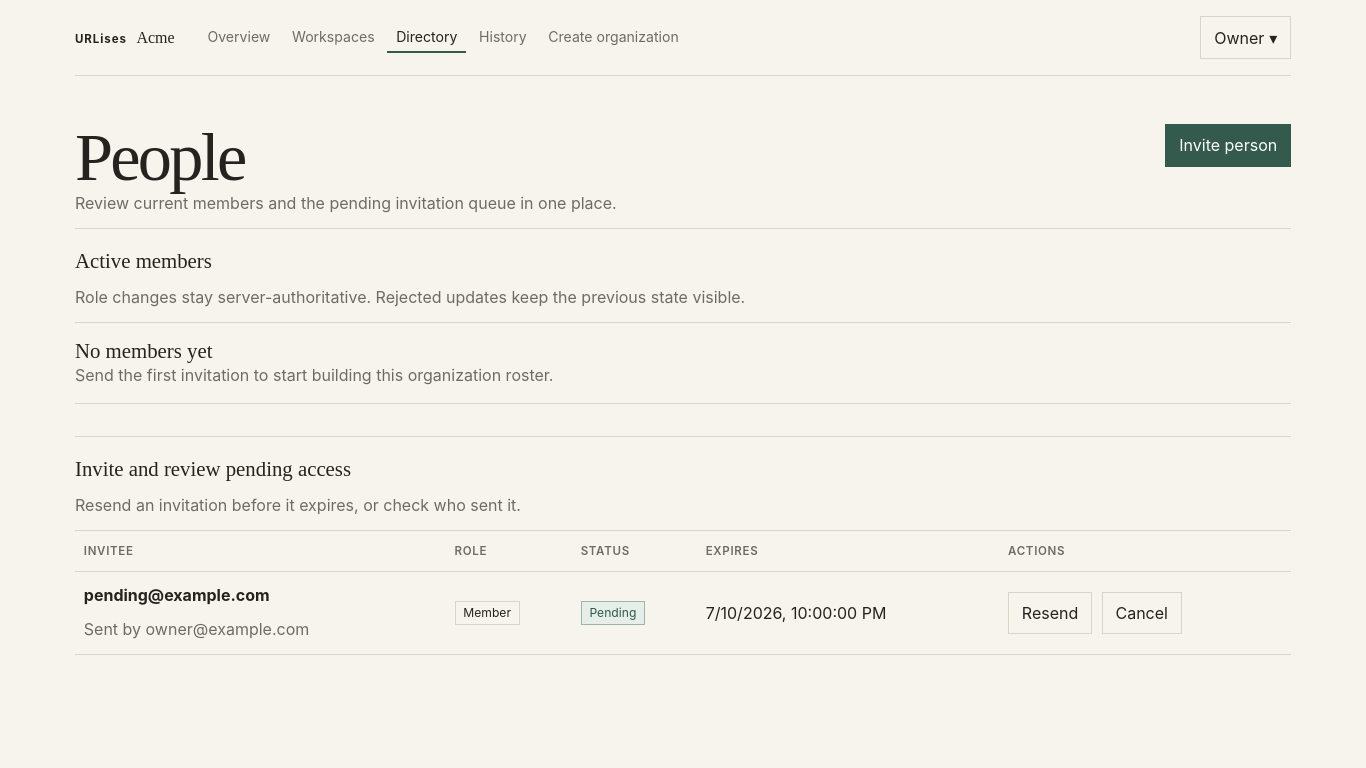
Test: members page › resends a pending invitation and shows a confirmation notice
Expected: the text "pending@example.com" is shown, [84,584,270,604]
Click the button with aria-label "resend invitation to pending@example.com": (1050, 613) [1008,592,1092,634]
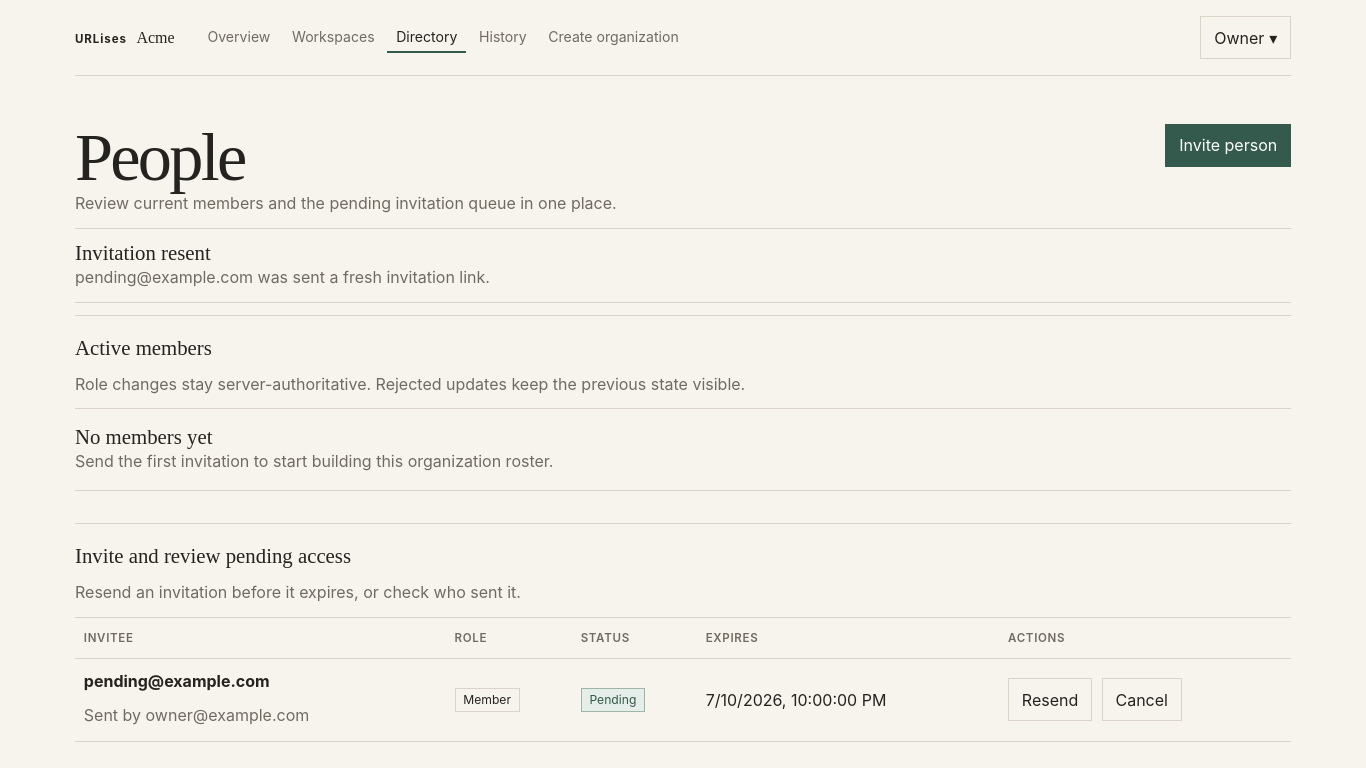
Now the heading "Invitation resent" is shown, box [75,241,211,264]
